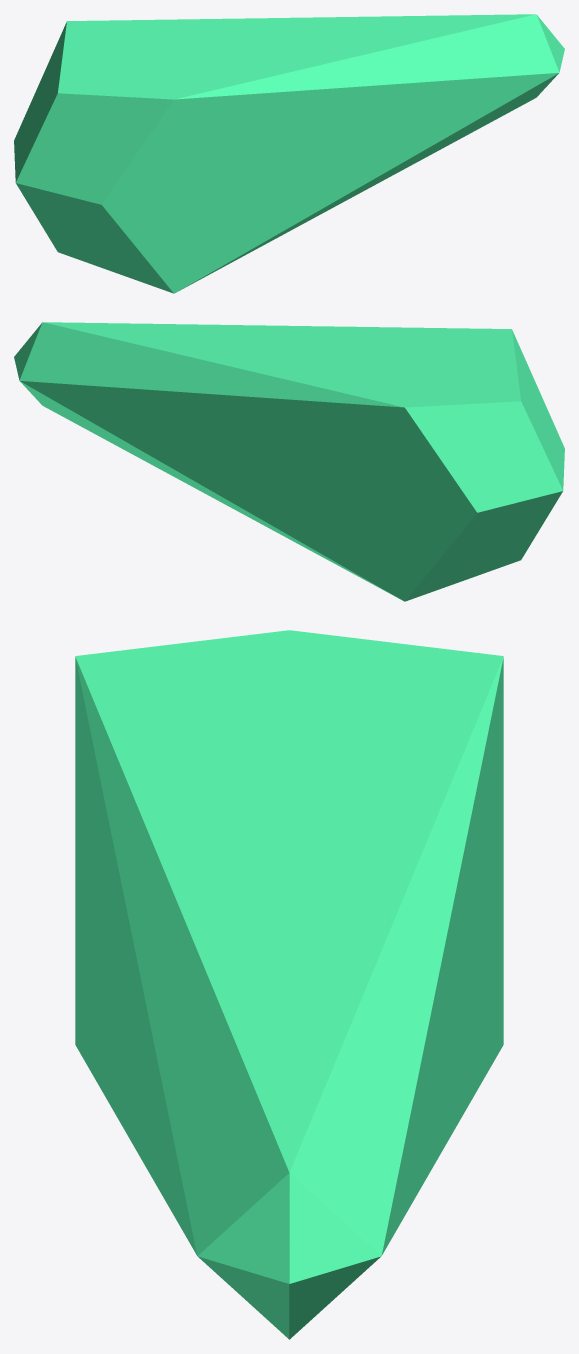
File: wind.obj
3 views of the same model, one above another, from view 1: azimuth 30°, elevation 25°; view 2: azimuth 150°, elevation 25°; view 3: azimuth 270°, elevation 25° (orthographic). The views are drawn at different scales.
Visible parts, largest first — view 1: Circle; view 2: Circle; view 3: Circle.
Boxes of the visible parts, x1,y1,x2,y2 form: Circle: (14,14,564,293); Circle: (14,322,564,601); Circle: (75,630,503,1339).
Bounding box in the file's own units: 1.87 × 0.6328 × 0.6328.
1 material, 1 textured.
